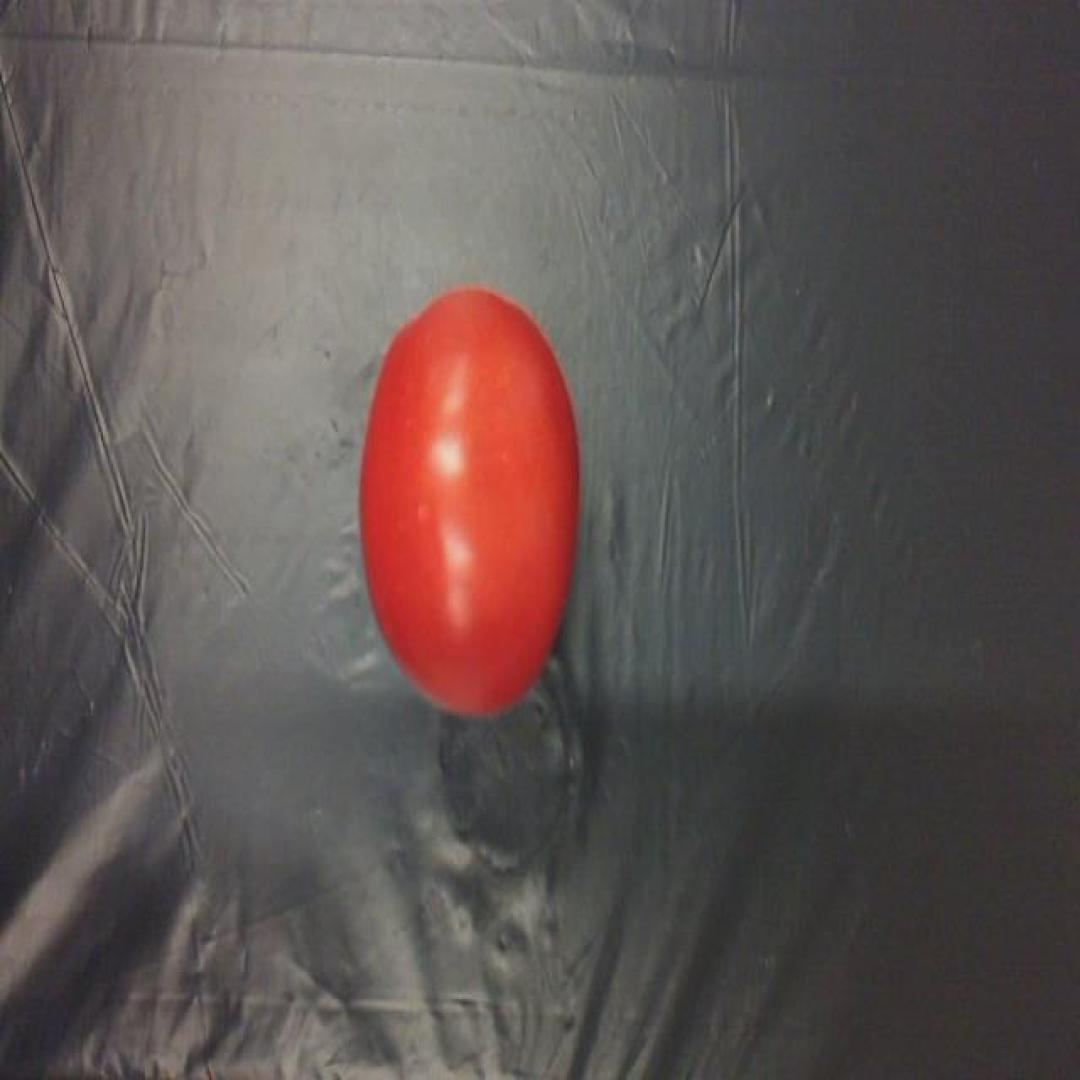matang: (358, 290, 577, 721)
